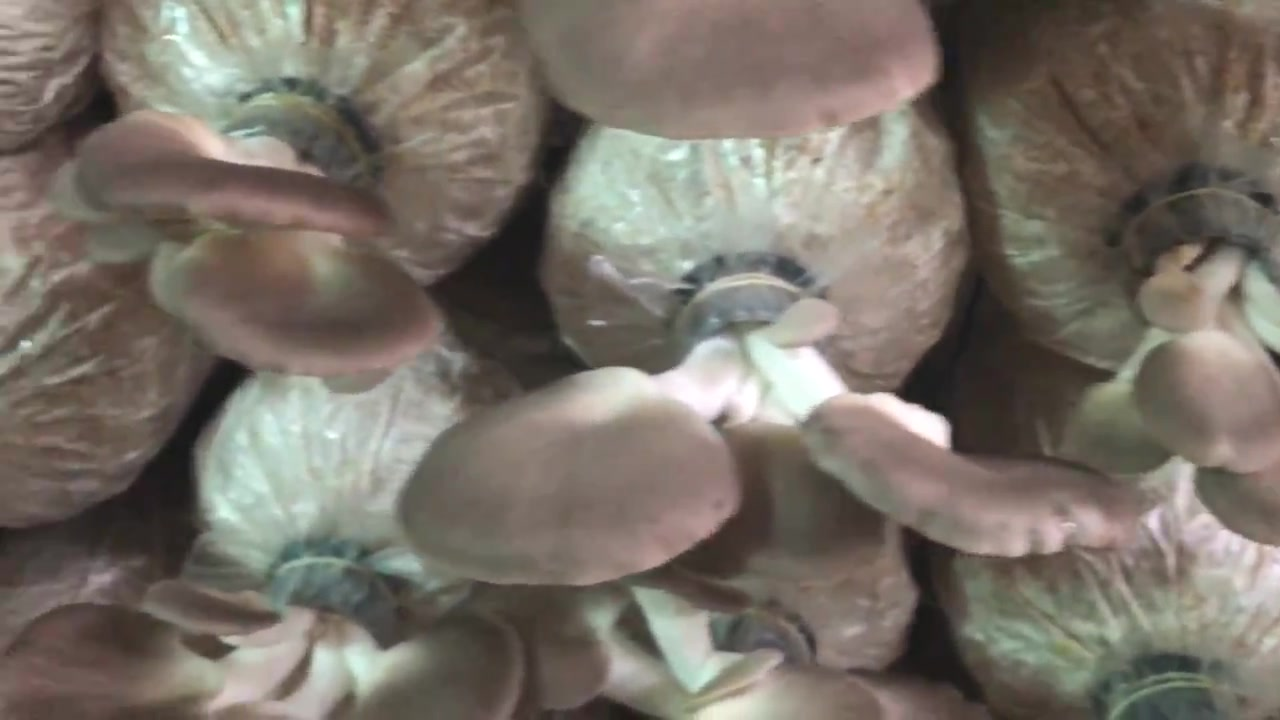nam: (398, 252, 1138, 582), (68, 68, 446, 384), (1, 546, 534, 720), (1066, 175, 1280, 541), (528, 1, 950, 143)
